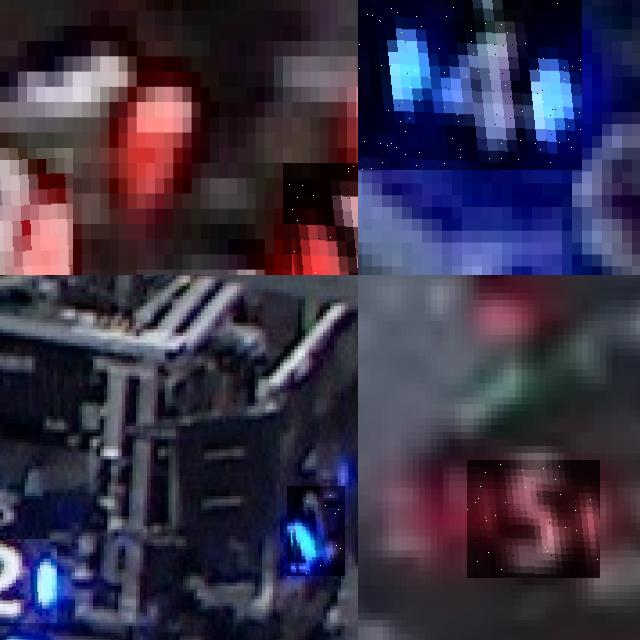B2: (287, 486, 345, 576), (0, 539, 57, 622)
B4: (358, 0, 582, 171)
R3: (0, 148, 72, 275), (283, 163, 358, 275)
R5: (467, 460, 600, 578)
